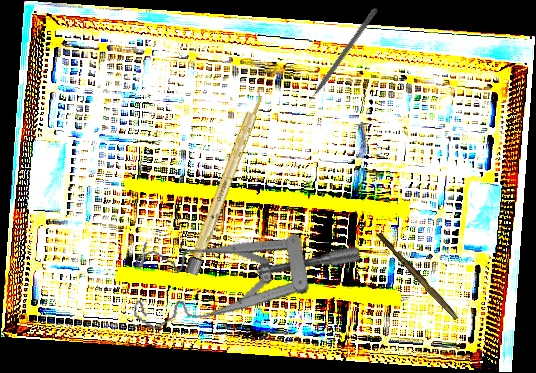Pusher: (299, 5, 380, 112)
Scalpel Handle: (184, 91, 267, 276), (374, 231, 462, 321)
Speculum: (121, 196, 363, 372)
